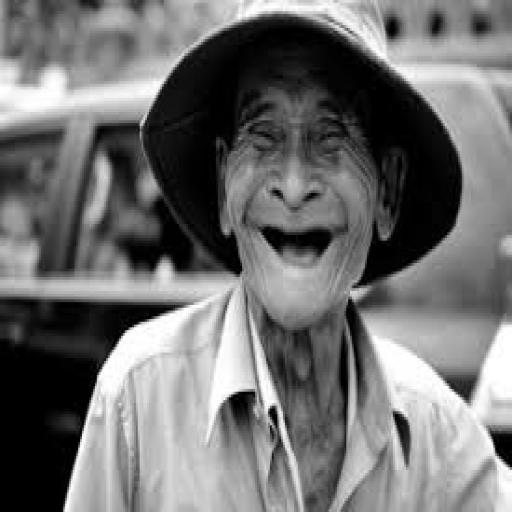laughing: (56, 3, 508, 509)
